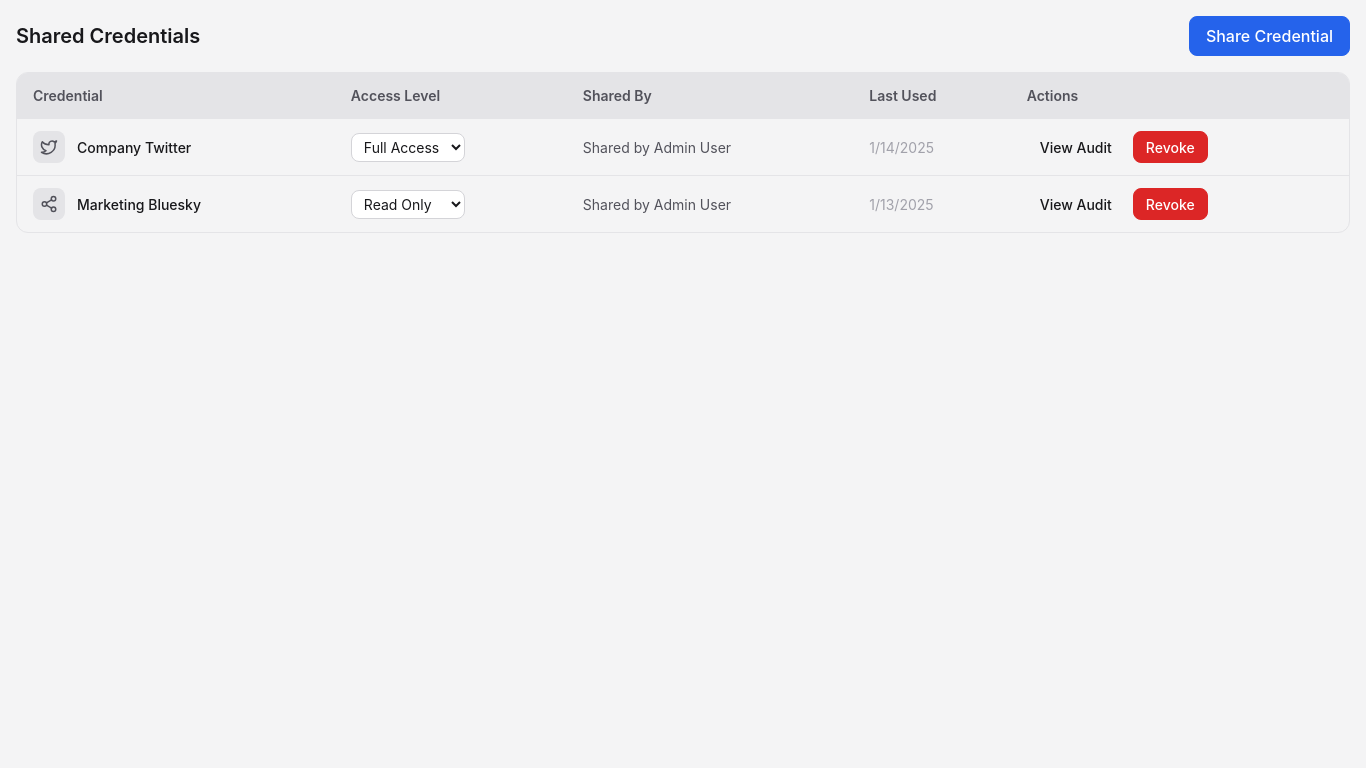
SharedCredentials Component › allows admin to share new credential
Click the button "Share Credential". click: click(1269, 36)
box: [1189,16,1350,56]
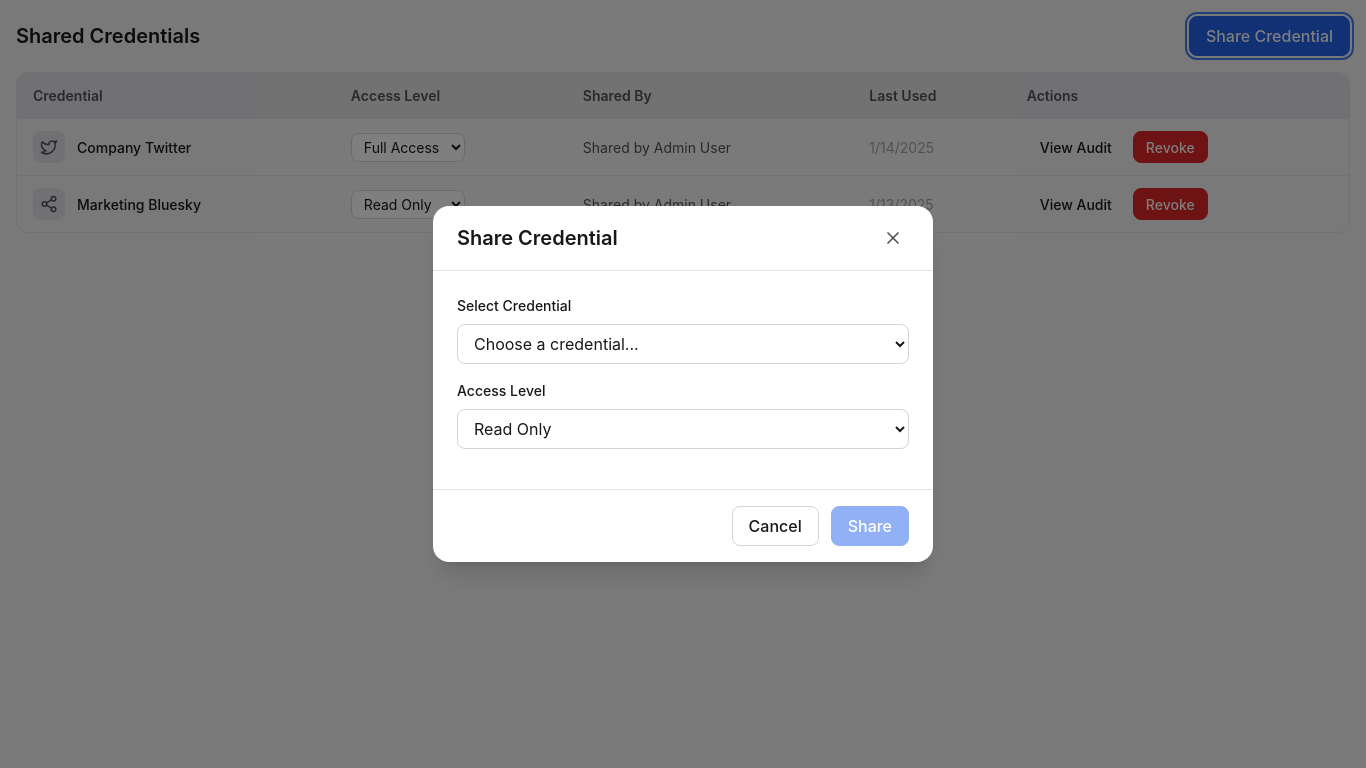
Result: the dialog is shown at [433,206,933,562]
Result: the dropdown labelled "Select Credential" is shown at [457,324,909,364]
Result: the dropdown with id "access-level-select" is shown at [457,409,909,449]
